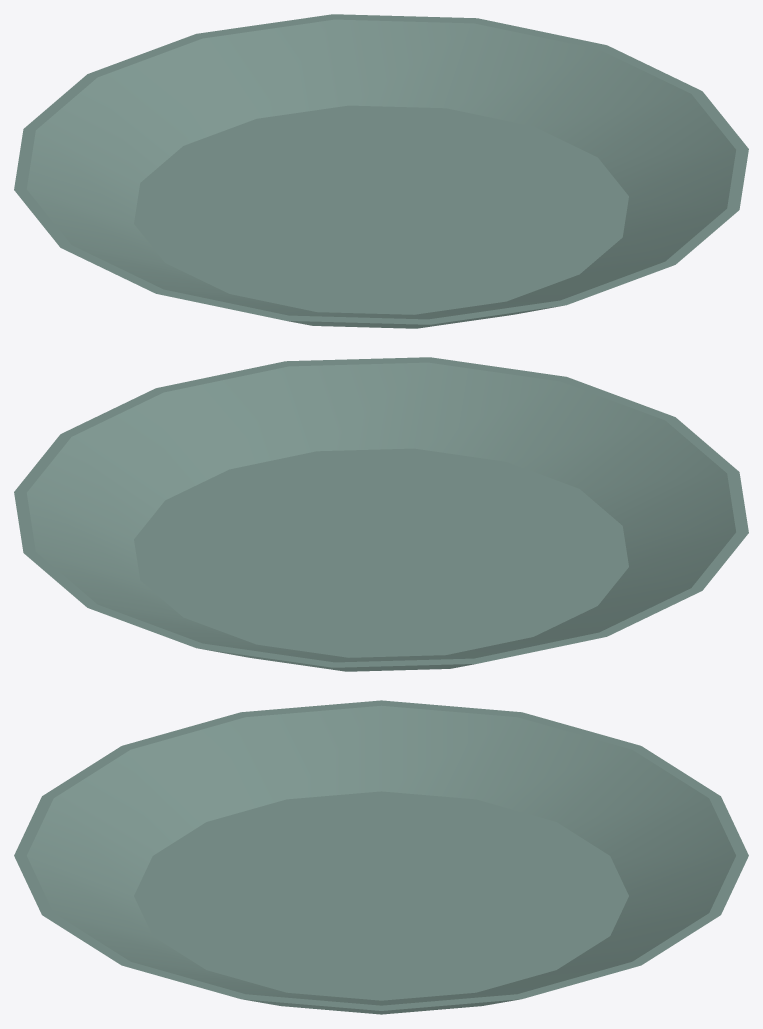
File: plate.fbx
3 renders of one model, top to bottom at view 1: azimuth 30°, elevation 25°; view 2: azimuth 150°, elevation 25°; view 3: azimuth 270°, elevation 25°, orthographic.
Visible parts, largest first — view 1: pCylinder1; view 2: pCylinder1; view 3: pCylinder1.
Part boxes in pixels (bbox=[...]): pCylinder1: bbox=[14, 14, 748, 328]; pCylinder1: bbox=[14, 357, 748, 671]; pCylinder1: bbox=[14, 700, 748, 1014].
Size of the model in its own units: 19.28 by 1.83 by 19.28.
